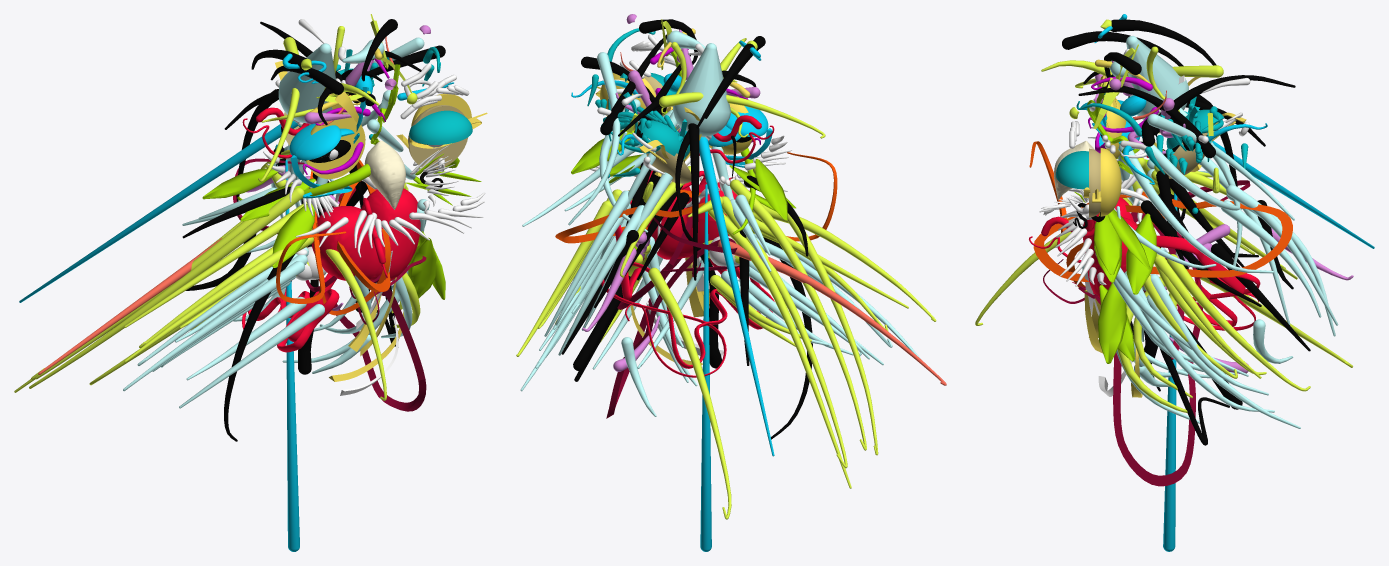
File: owl.glb
3 renders of one model, left to right at view 1: azimuth 30°, elevation 25°; view 2: azimuth 150°, elevation 25°; view 3: azimuth 270°, elevation 25°, orthographic. The views are drawn at different scales.
Parts seen in each view (by area): view 1: eule; view 2: eule; view 3: eule.
Part boxes in pixels (left/top/right/bottom): eule: left=14, top=14, right=487, bottom=551; eule: left=516, top=14, right=946, bottom=551; eule: left=975, top=14, right=1374, bottom=551.
Bounding box in the file's own units: 2.18 × 2.68 × 1.8.
